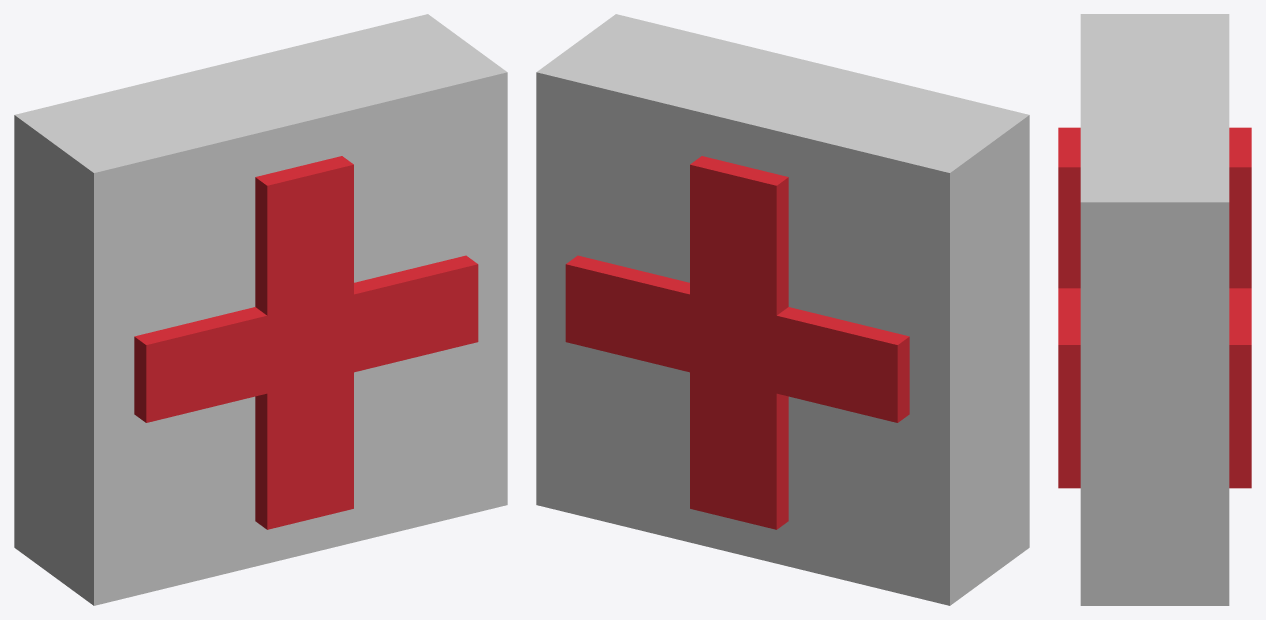
File: MedKit.fbx
3 renders of one model, left to right at view 1: azimuth 30°, elevation 25°; view 2: azimuth 150°, elevation 25°; view 3: azimuth 270°, elevation 25°, orthographic. The views are drawn at different scales.
Parts seen in each view (by area): view 1: Box; view 2: Box; view 3: Box.
Boxes of the visible parts, bbox=[...] form: Box: bbox=[14, 14, 507, 605]; Box: bbox=[536, 14, 1029, 605]; Box: bbox=[1058, 14, 1251, 605].
Bounding box in the file's own units: 200 × 200 × 86.67.
